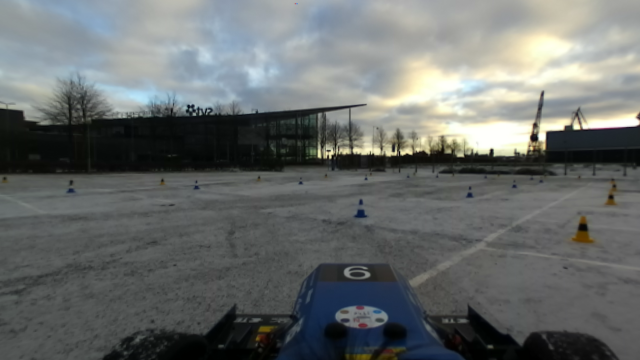blue: (353, 197, 368, 220), (464, 185, 475, 199), (65, 181, 76, 194)
yellow: (570, 216, 594, 245), (605, 189, 618, 206)
